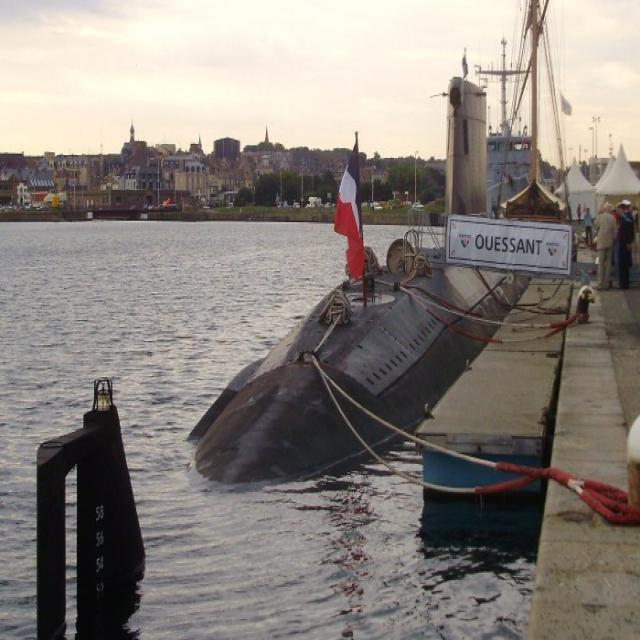submarine: (182, 51, 543, 489)
